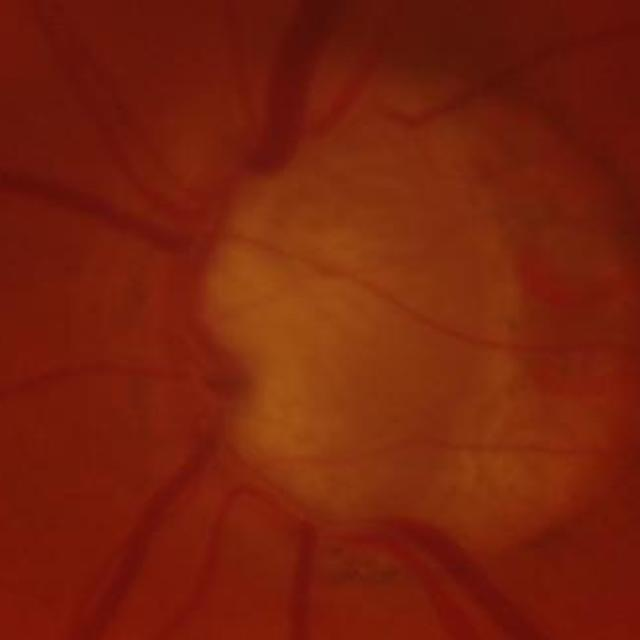OC: (207, 174, 514, 512)
OD: (113, 76, 640, 559)
